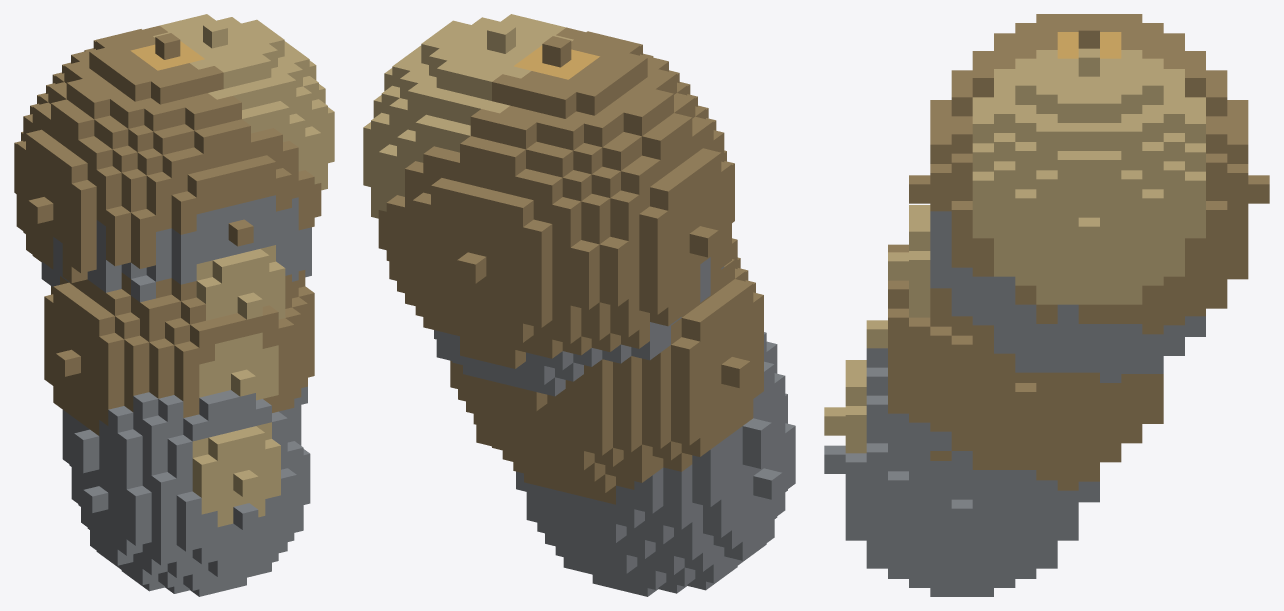
Rendered from rf_shin.glb.
The picture shows the model from 3 angles, left to right: view 1: azimuth 30°, elevation 25°; view 2: azimuth 150°, elevation 25°; view 3: azimuth 270°, elevation 25°; orthographic projection. The views are drawn at different scales.
Bounding box in the file's own units: 18 × 30 × 21.
